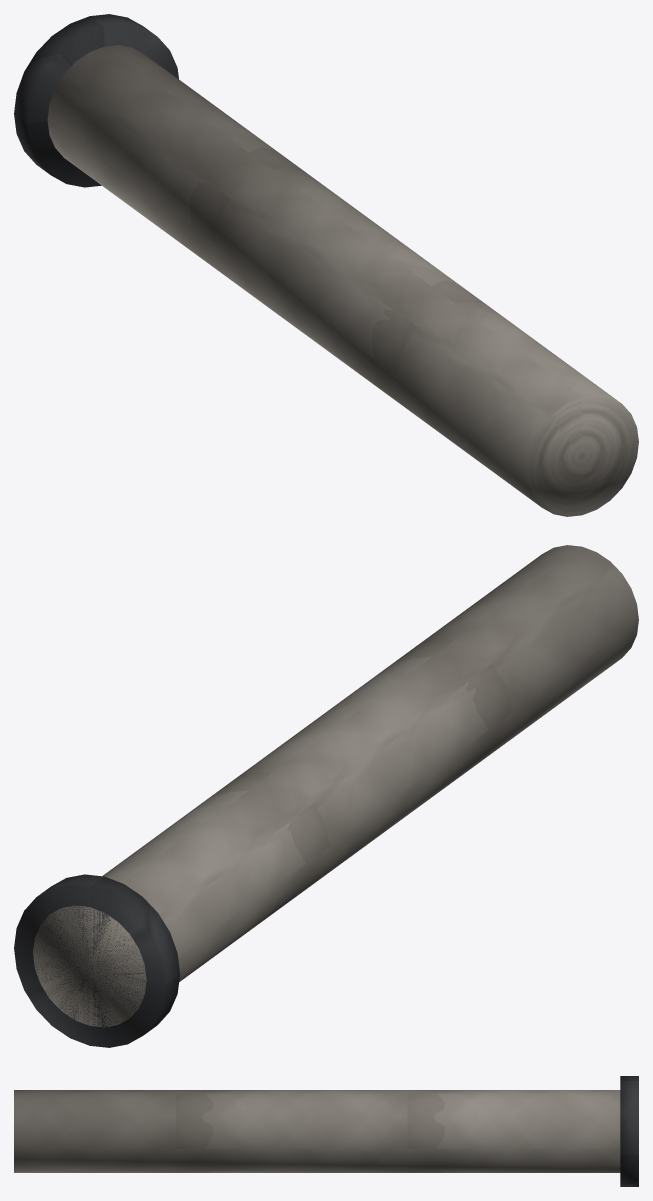
The model's file is ARCH_COLUMN_ROUND_001.glb.
3 renders of one model, top to bottom at view 1: azimuth 30°, elevation 25°; view 2: azimuth 150°, elevation 25°; view 3: azimuth 270°, elevation 25°, orthographic. The views are drawn at different scales.
Visible parts, largest first — view 1: round_column_000, base_001; view 2: round_column_000, base_001; view 3: round_column_000, base_001.
Boxes of the visible parts, x1,y1,x2,y2 form: round_column_000: [47, 45, 638, 516]; base_001: [14, 14, 178, 187]; round_column_000: [33, 545, 638, 1027]; base_001: [14, 874, 180, 1047]; round_column_000: [14, 1090, 620, 1172]; base_001: [620, 1076, 638, 1186].
Bounding box in the file's own units: 0.48 × 0.48 × 2.7.
Materials: 2 (2 with a texture image).
